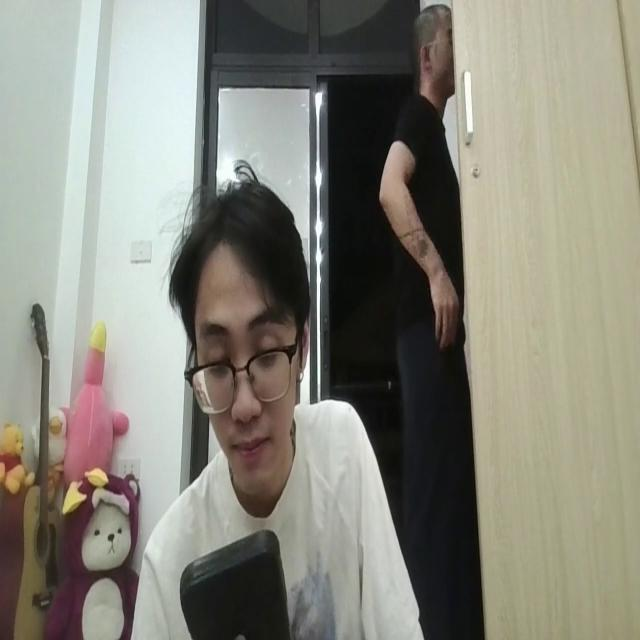extra_person: (378, 0, 475, 640)
phone: (176, 520, 294, 640)
student: (111, 163, 411, 640)
